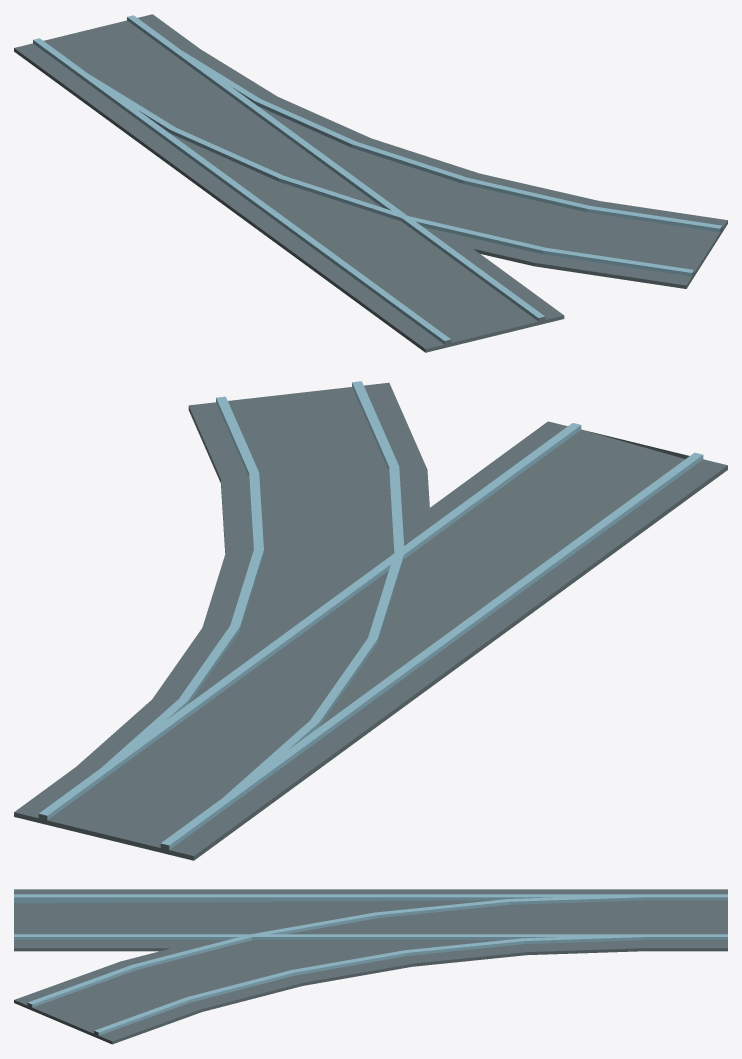
File: SM_tram_rails_07.glb
3 renders of one model, top to bottom at view 1: azimuth 30°, elevation 25°; view 2: azimuth 150°, elevation 25°; view 3: azimuth 270°, elevation 25°, orthographic. The views are drawn at different scales.
Visible parts, largest first — view 1: SM_tram_rails_07; view 2: SM_tram_rails_07; view 3: SM_tram_rails_07.
Part boxes in pixels (left/top/right/bottom): SM_tram_rails_07: left=14, top=14, right=727, bottom=352; SM_tram_rails_07: left=14, top=381, right=727, bottom=860; SM_tram_rails_07: left=14, top=889, right=727, bottom=1044.
Size of the model in its own units: 4.03 by 0.0761 by 8.
Materials: 1 (1 with a texture image).
